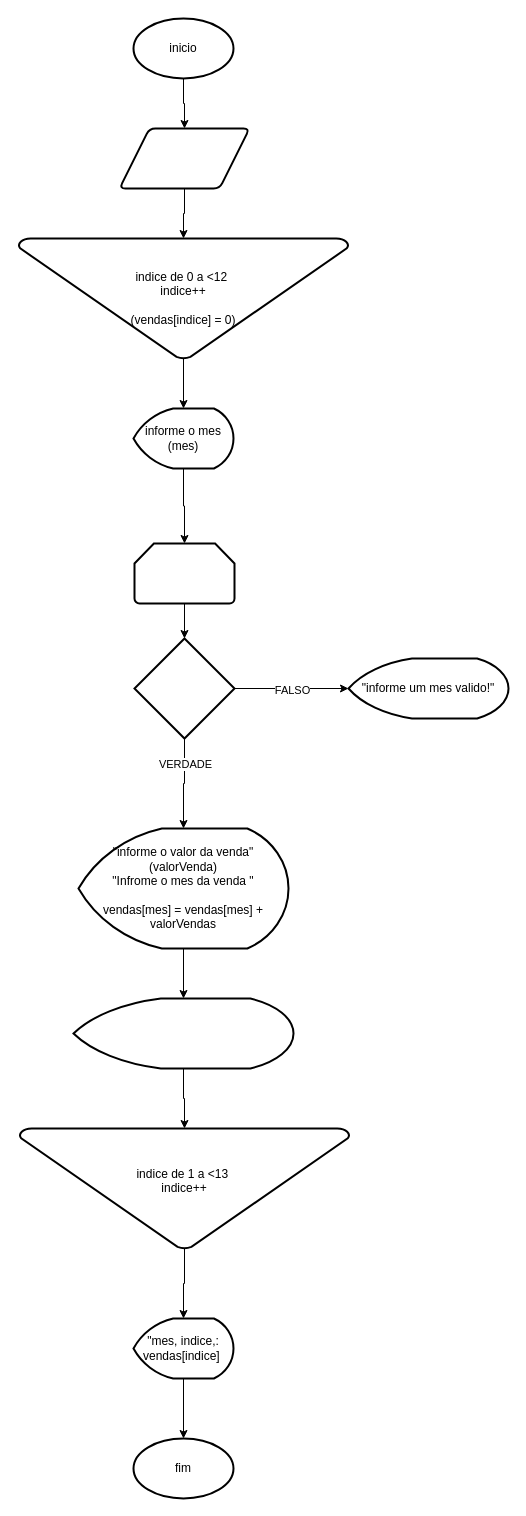
This 526x1516 diagram has some shape labels left out. The centre of each missing label's shape, as x and y in pixels:
"valor acumulado por mes: (183,1033)
mes ≠ 99: (184,573)
mes>=1 e mes<=12: (184,688)
vendas[13], valorVenda, indice, mes: (184,158)
